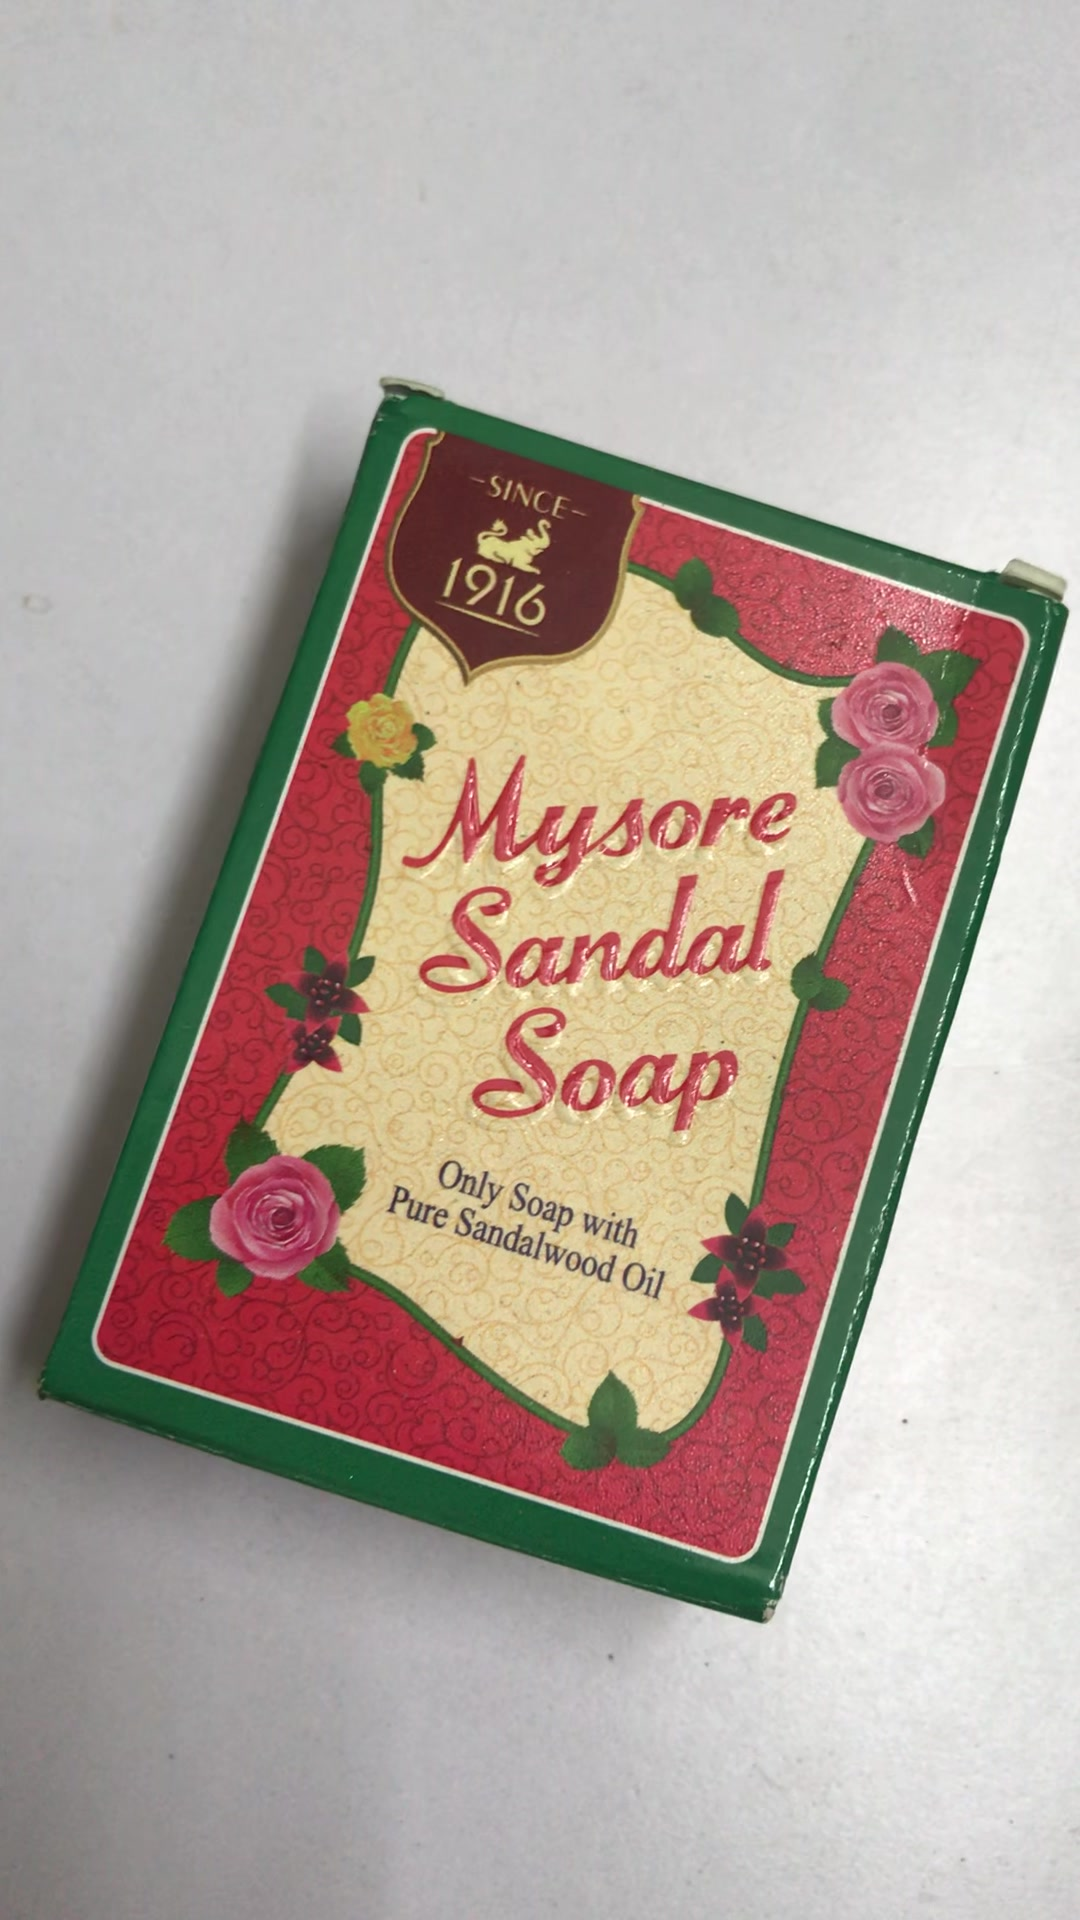mysore sandal soap: (32, 390, 1063, 1629)
